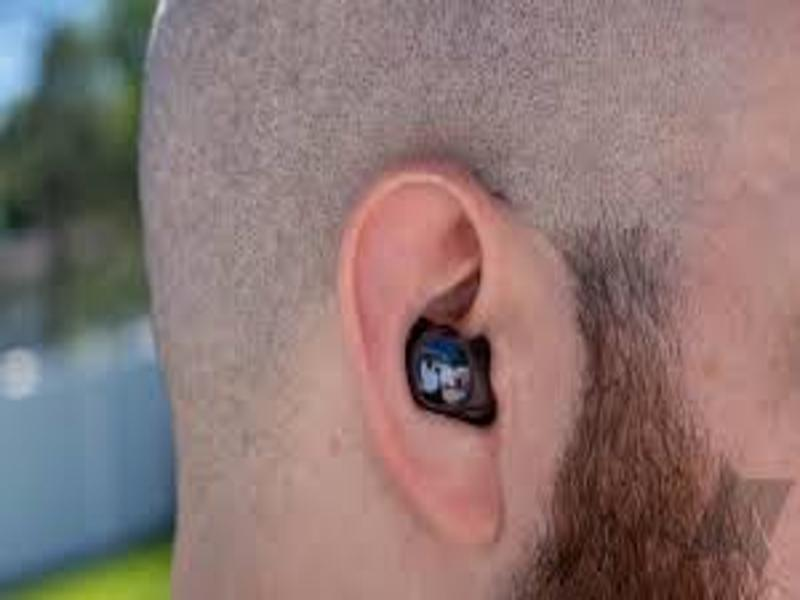headphone: (407, 319, 481, 419)
